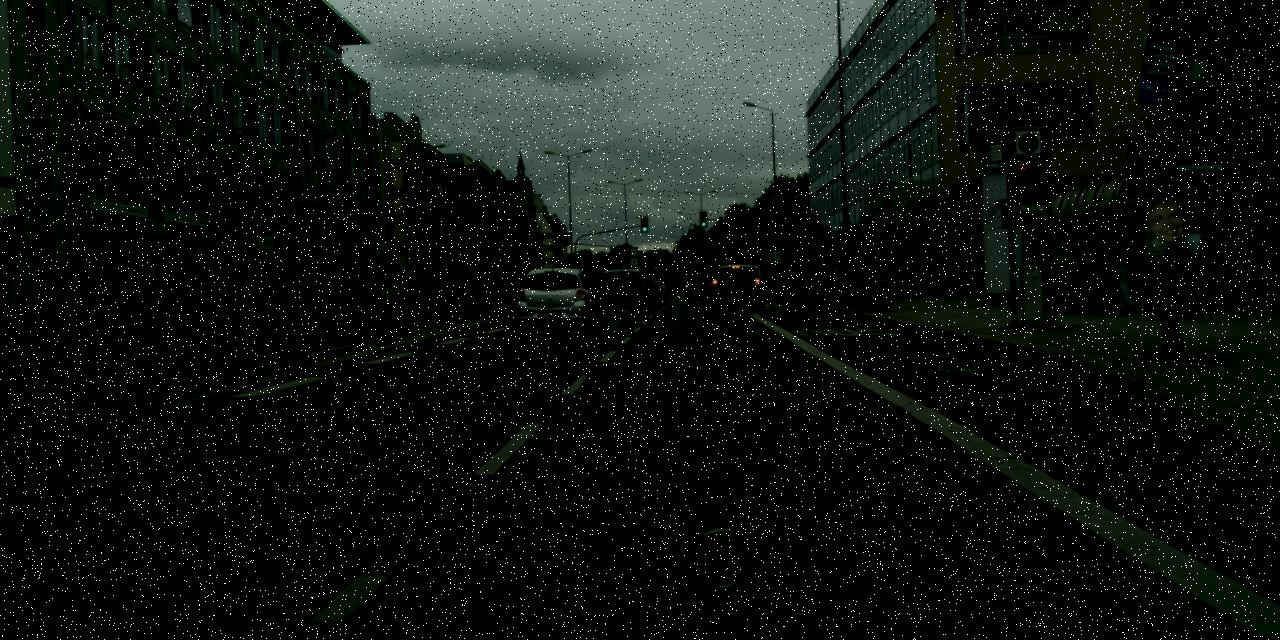ped: (1189, 220, 1222, 300), (1226, 254, 1244, 298), (440, 286, 446, 302), (450, 287, 456, 301), (465, 286, 471, 300), (458, 286, 463, 300)
